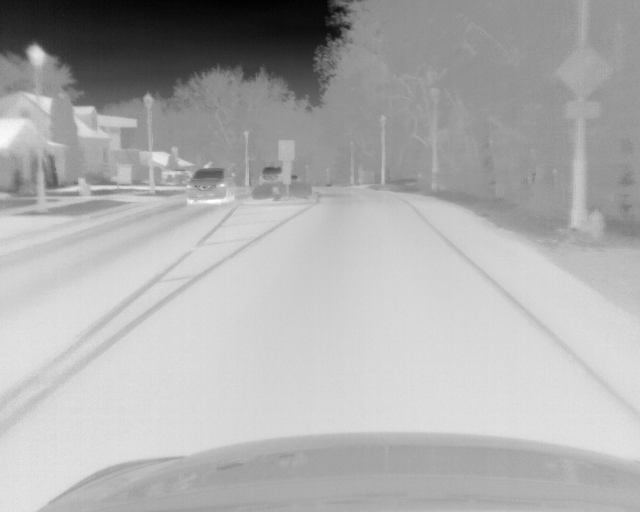car: (184, 167, 237, 204), (257, 165, 282, 184)
